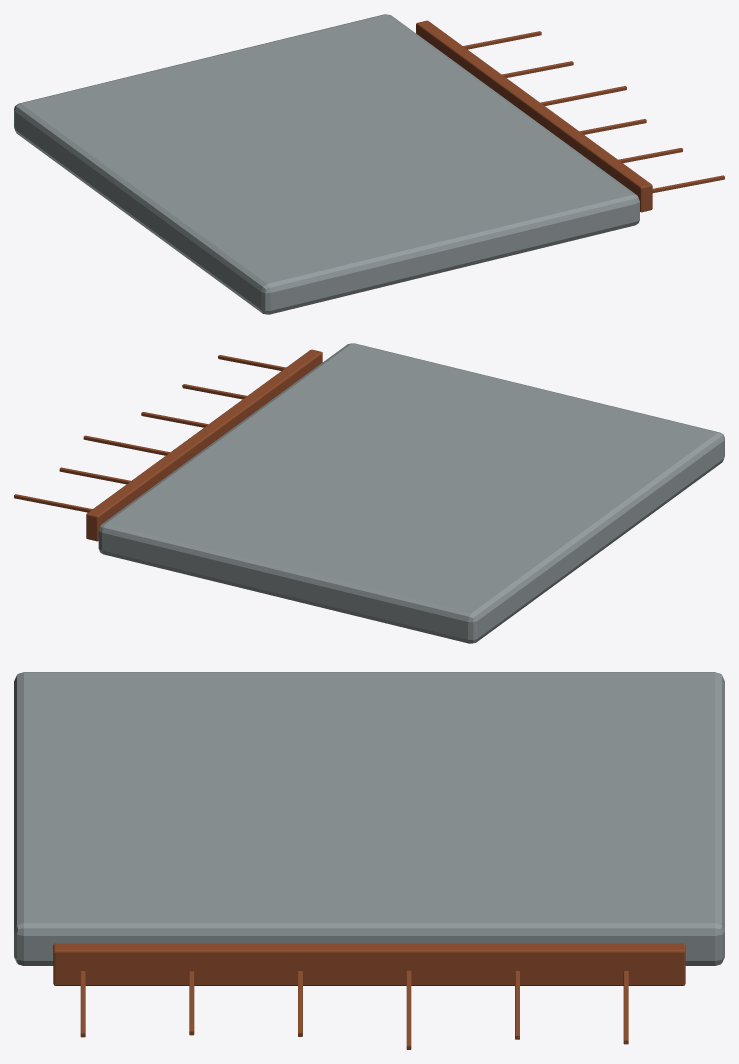
The model's file is SM_FC01_Structure_Slab_Broken_A.fbx.
3 views of the same model, one above another, from view 1: azimuth 30°, elevation 25°; view 2: azimuth 150°, elevation 25°; view 3: azimuth 270°, elevation 25° (orthographic). The views are drawn at different scales.
Parts seen in each view (by area): view 1: SM_FC01_Structure_Slab_Broken_A_Main, SM_FC01_Structure_Slab_Broken_A_BrokenEdge; view 2: SM_FC01_Structure_Slab_Broken_A_Main, SM_FC01_Structure_Slab_Broken_A_BrokenEdge; view 3: SM_FC01_Structure_Slab_Broken_A_Main, SM_FC01_Structure_Slab_Broken_A_BrokenEdge.
Boxes of the visible parts, <box> form: SM_FC01_Structure_Slab_Broken_A_Main: <box>14,14,639,314</box>; SM_FC01_Structure_Slab_Broken_A_BrokenEdge: <box>416,20,652,212</box>; SM_FC01_Structure_Slab_Broken_A_Main: <box>98,343,724,643</box>; SM_FC01_Structure_Slab_Broken_A_BrokenEdge: <box>86,349,322,541</box>; SM_FC01_Structure_Slab_Broken_A_Main: <box>14,672,724,965</box>; SM_FC01_Structure_Slab_Broken_A_BrokenEdge: <box>53,943,685,985</box>.
Bounding box in the file's own units: 4.12 × 0.24 × 3.6.
